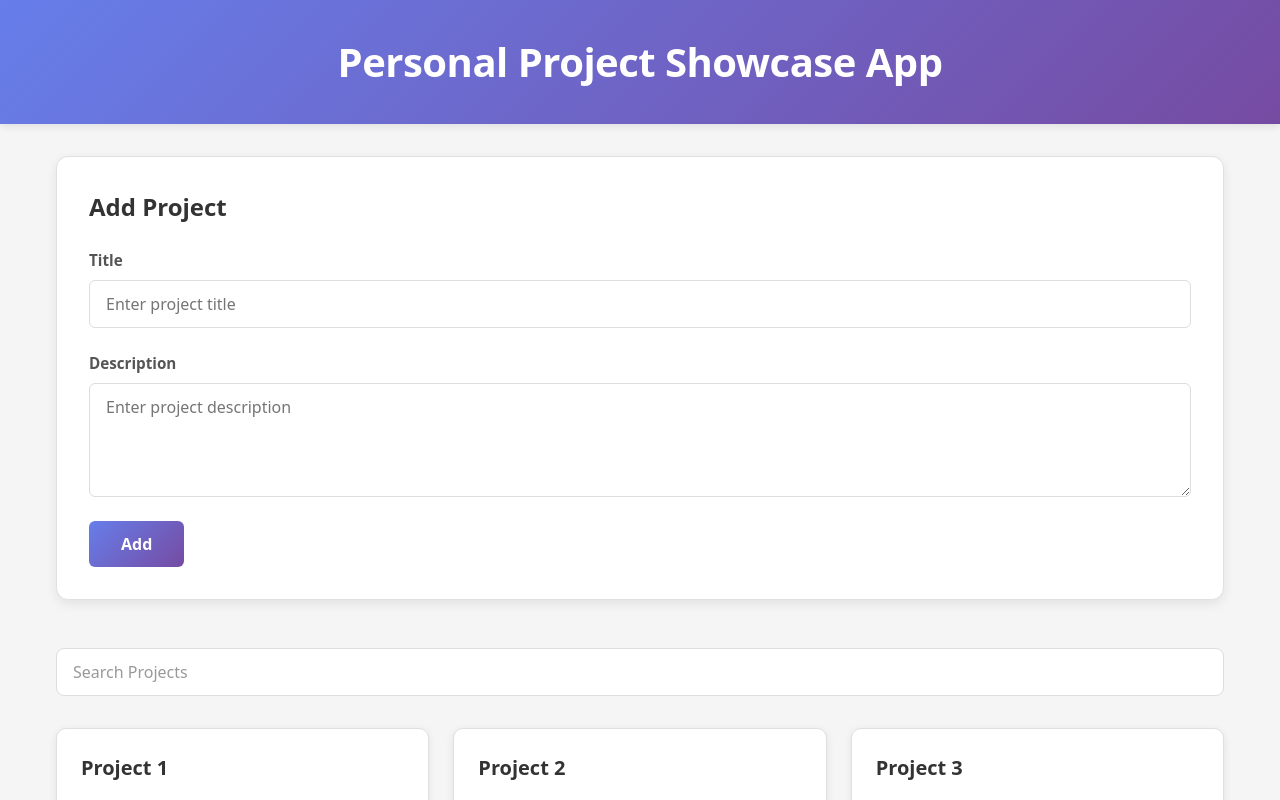
Test: App › filters projects by search term
This screenshot has width=1280, height=800.
Type "Project 1" into the field with placeholder "Search Projects" at (640, 672), box [56,648,1224,696]
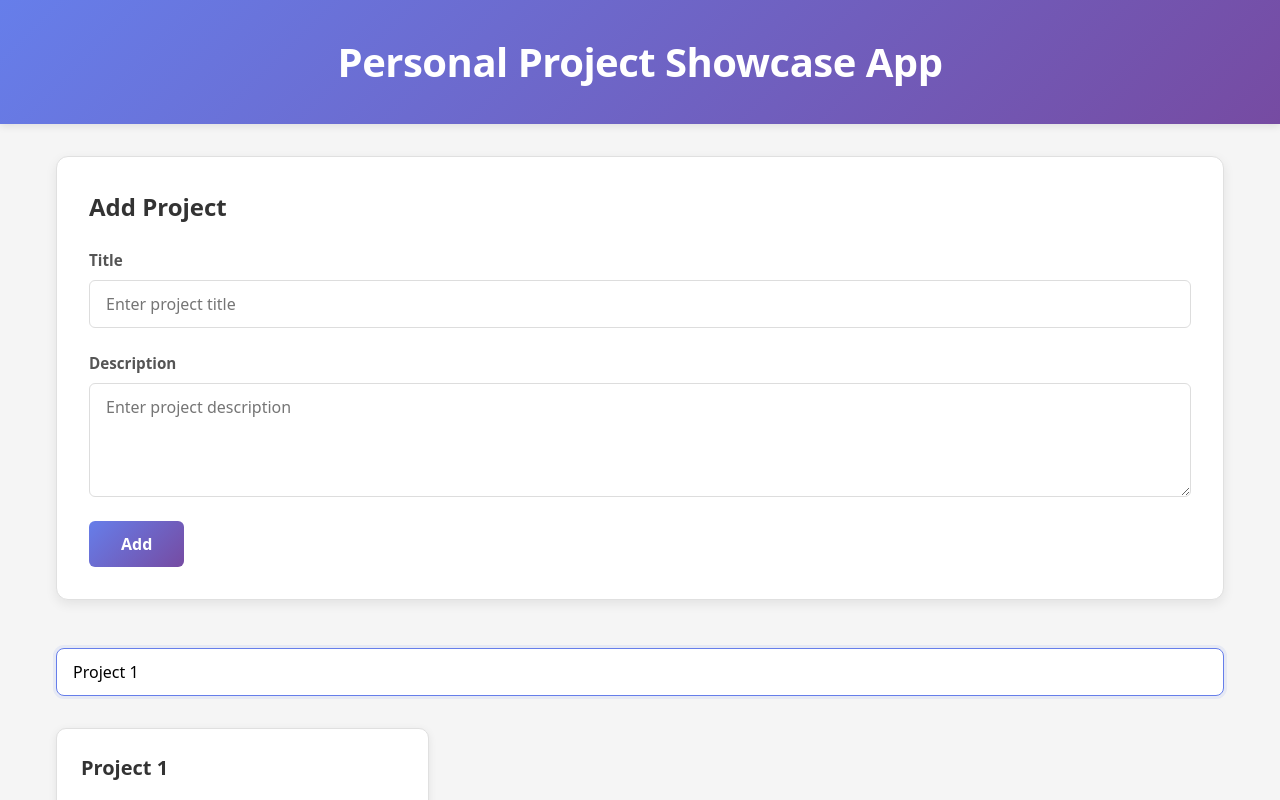
Check: the heading "Project 1" is shown, box [81,754,168,781]
Check: the heading "Project 2" is gone
